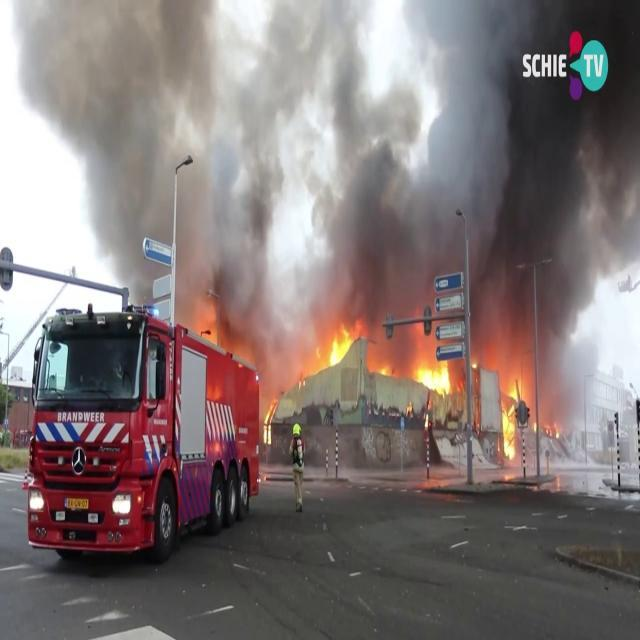Fire: (488, 348, 536, 466), (313, 314, 366, 376), (412, 354, 452, 399)
Smoke: (8, 0, 633, 325)
